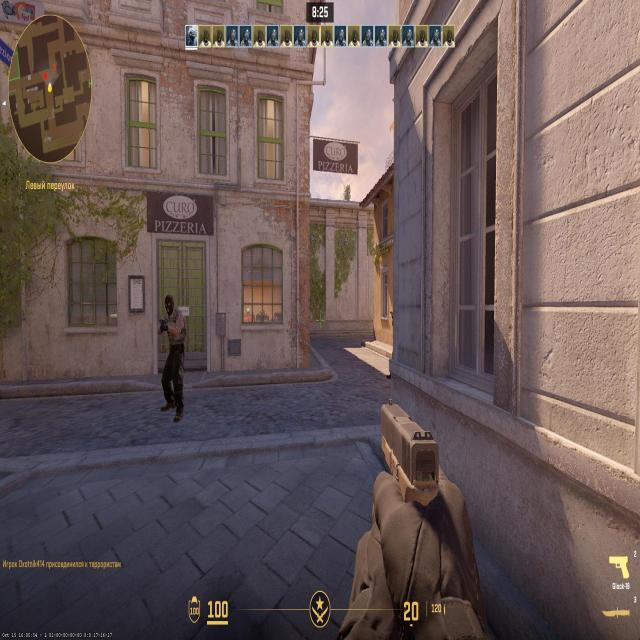T: (161, 293, 184, 399)
T_heat: (165, 299, 171, 316)
